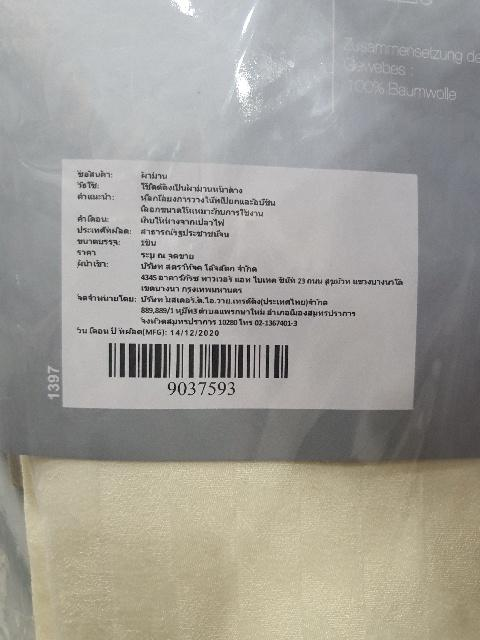Barcode: (100, 335, 301, 399)
